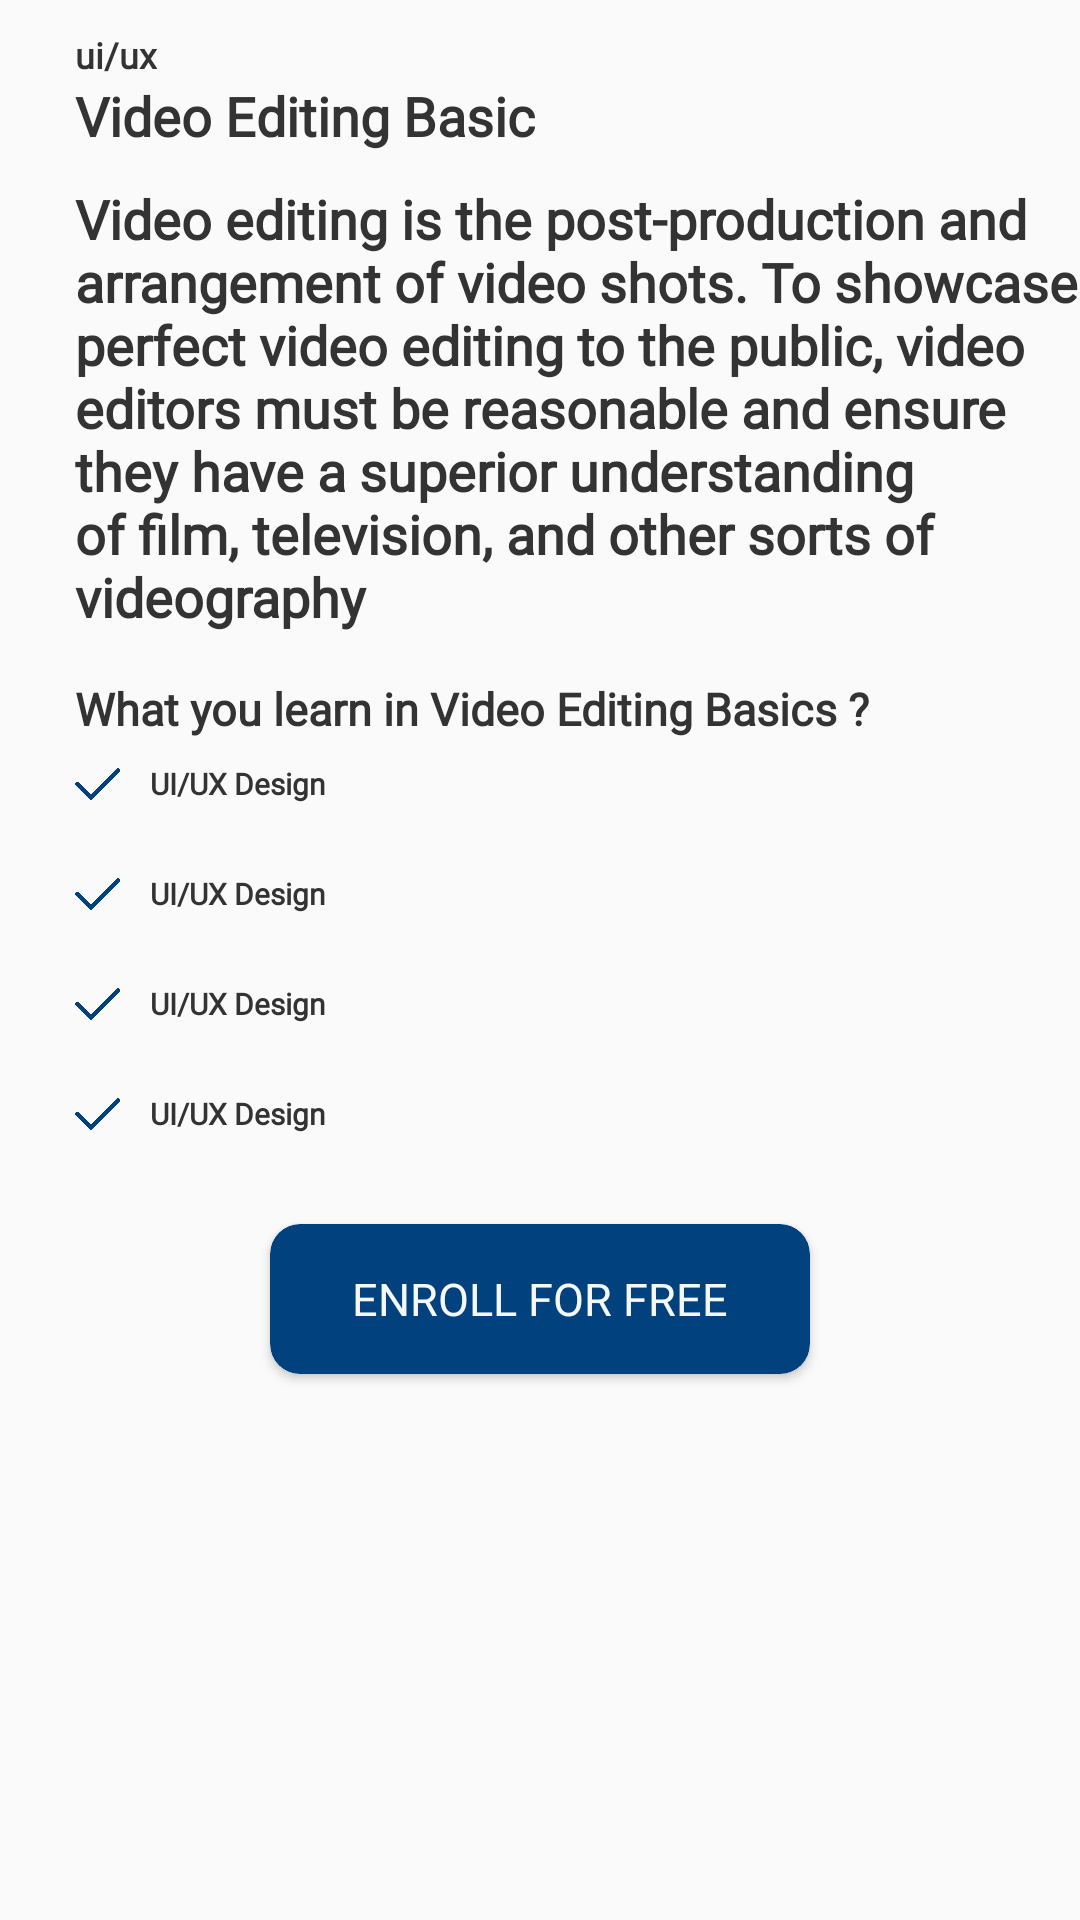

Where to tap for icons on this 1080*1920 app screen, as (x=x, y=y):
right: (x=97, y=784), (x=97, y=894), (x=97, y=1004), (x=97, y=1114)
